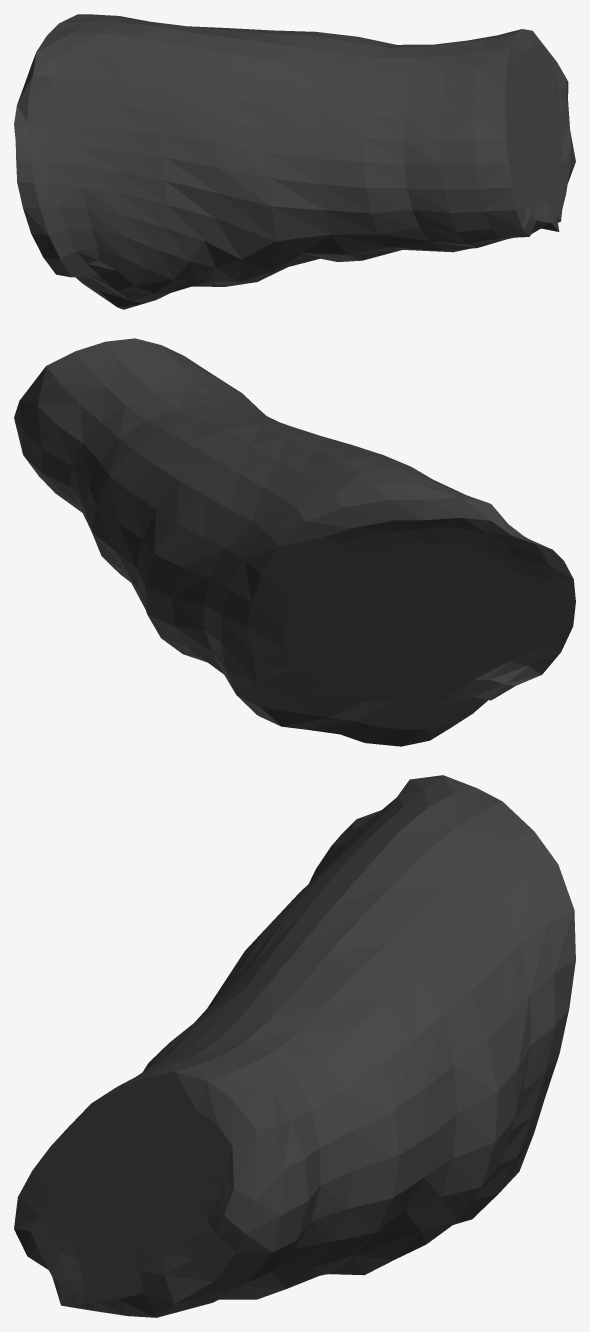
The model's file is Left_principal_bronchus.glb.
The picture shows the model from 3 angles, top to bottom: view 1: azimuth 30°, elevation 25°; view 2: azimuth 150°, elevation 25°; view 3: azimuth 270°, elevation 25°; orthographic projection. The views are drawn at different scales.
Visible parts, largest first — view 1: Left_principal_bronchus; view 2: Left_principal_bronchus; view 3: Left_principal_bronchus.
Part boxes in pixels (x1=…): Left_principal_bronchus: x1=14, y1=14, x2=575, y2=309; Left_principal_bronchus: x1=14, y1=338, x2=575, y2=746; Left_principal_bronchus: x1=14, y1=775, x2=575, y2=1317.
Size of the model in its own units: 1.22 by 0.5814 by 0.7909.
1 material, 1 textured.
